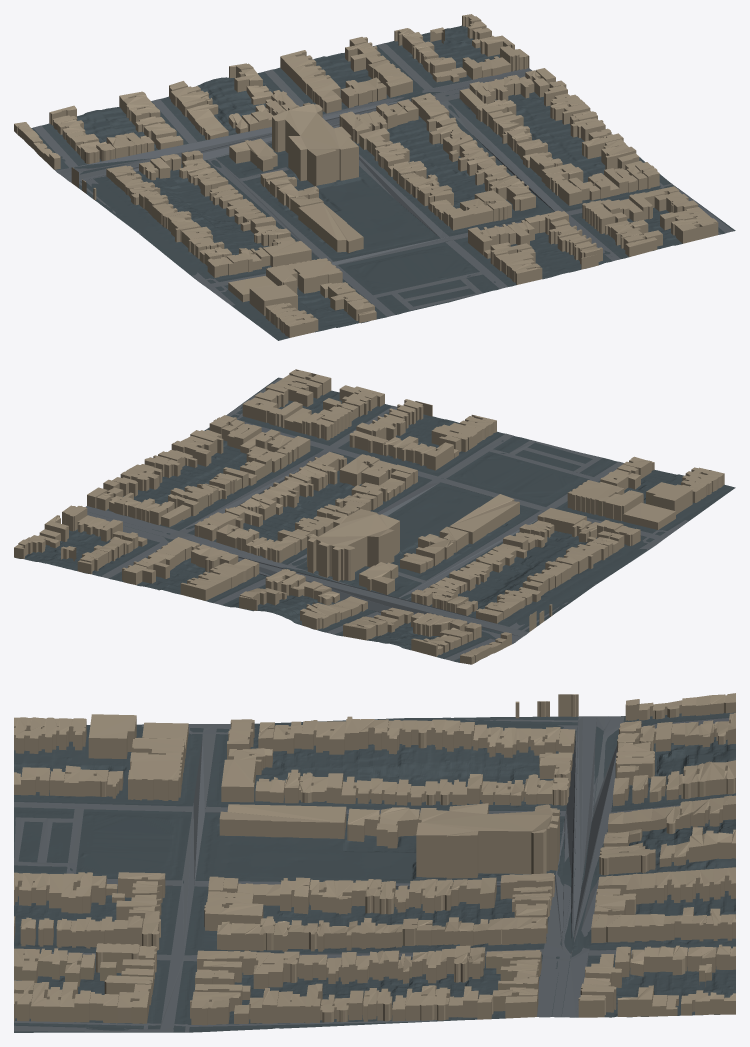
The model's file is epsg26910-1423-10884.lod0.glb.
The picture shows the model from 3 angles, top to bottom: view 1: azimuth 30°, elevation 25°; view 2: azimuth 150°, elevation 25°; view 3: azimuth 270°, elevation 25°; orthographic projection. The views are drawn at different scales.
Visible parts, largest first — view 1: epsg26910-1423-10884-lod0; view 2: epsg26910-1423-10884-lod0; view 3: epsg26910-1423-10884-lod0.
Part boxes in pixels (x1,y1,x2,y2): epsg26910-1423-10884-lod0: (14,14,735,340); epsg26910-1423-10884-lod0: (14,369,735,664); epsg26910-1423-10884-lod0: (14,693,735,1032).
Size of the model in its own units: 384 by 33.2 by 384.
